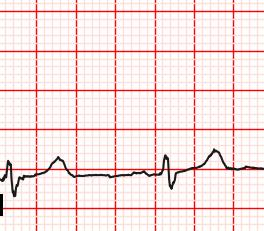Poor R Progression: (157, 150, 172, 176), (2, 156, 16, 181)
ST Depression: (0, 174, 25, 200), (156, 168, 183, 191)
